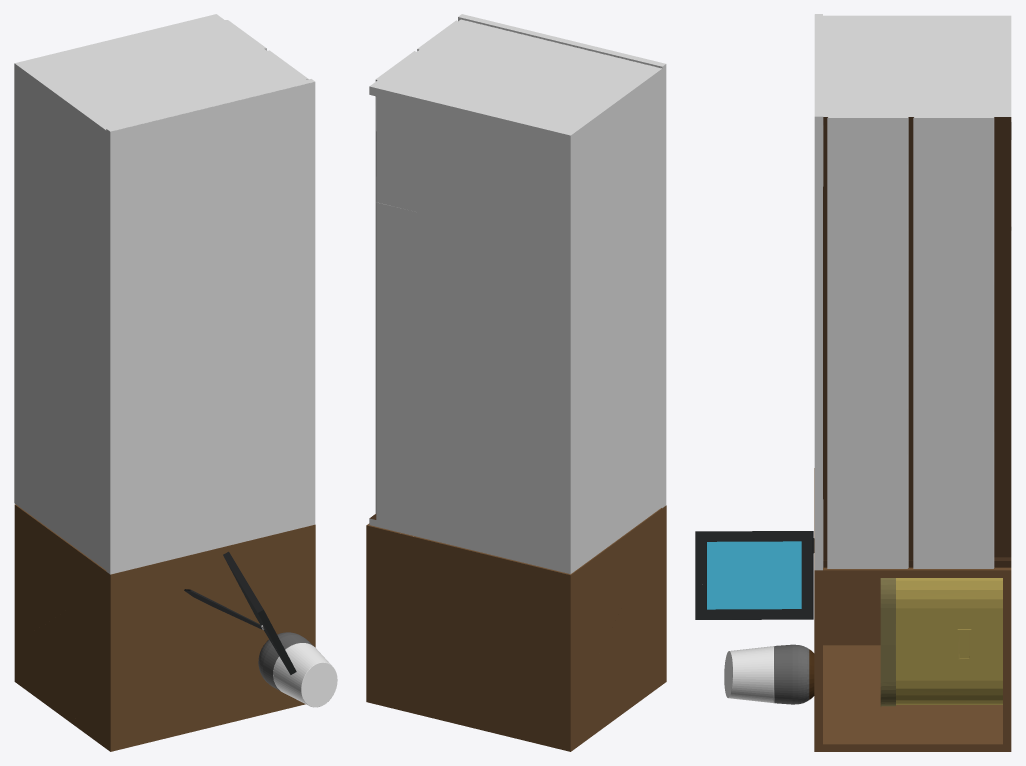
Rendered from credenza_bassa_v2.glb.
The picture shows the model from 3 angles, left to right: view 1: azimuth 30°, elevation 25°; view 2: azimuth 150°, elevation 25°; view 3: azimuth 270°, elevation 25°; orthographic projection. The views are drawn at different scales.
Parts seen in each view (by area): view 1: Mesh_0; view 2: Mesh_0; view 3: Mesh_0.
Boxes of the visible parts, x1,y1,x2,y2 form: Mesh_0: (14, 14, 337, 751); Mesh_0: (366, 14, 666, 751); Mesh_0: (695, 14, 1011, 751).
Bounding box in the file's own units: 0.39 × 1.13 × 0.5081.
